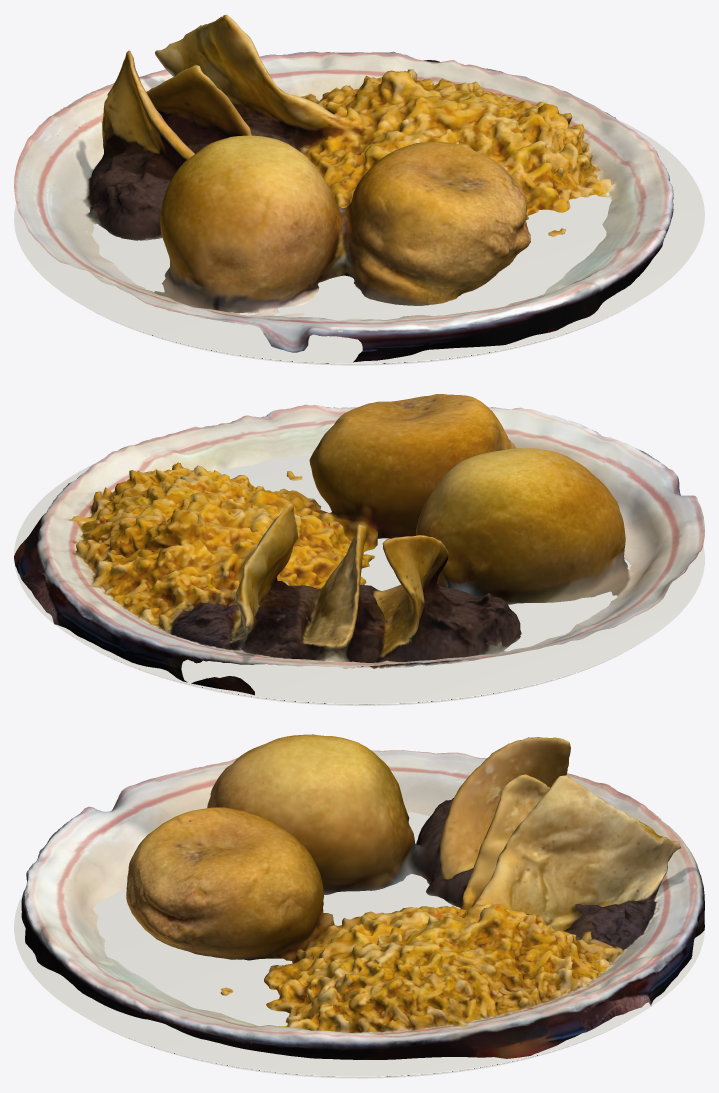
Rendered from chipotles-marce.glb.
3 views of the same model, one above another, from view 1: azimuth 30°, elevation 25°; view 2: azimuth 150°, elevation 25°; view 3: azimuth 270°, elevation 25° (orthographic).
Parts seen in each view (by area): view 1: approximate-plate-scale, plate-base; view 2: approximate-plate-scale, plate-base; view 3: approximate-plate-scale, plate-base.
Part boxes in pixels (x1,y1,x2,y2): approximate-plate-scale: (14, 14, 673, 362); plate-base: (14, 119, 704, 365); approximate-plate-scale: (14, 394, 704, 695); plate-base: (14, 425, 704, 705); approximate-plate-scale: (21, 734, 704, 1059); plate-base: (14, 812, 704, 1078).
Bounding box in the file's own units: 0.325 × 0.074 × 0.3207.
Materials: 2 (1 with a texture image).
